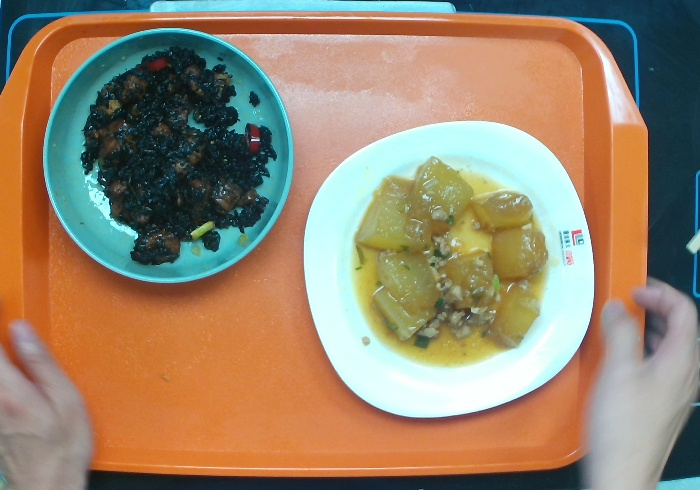ZNLD-Qing_Hua_Yuan_Wan: (42, 28, 296, 288)
ZNLD-Yuan_Jiao_Pan: (301, 116, 596, 423)
